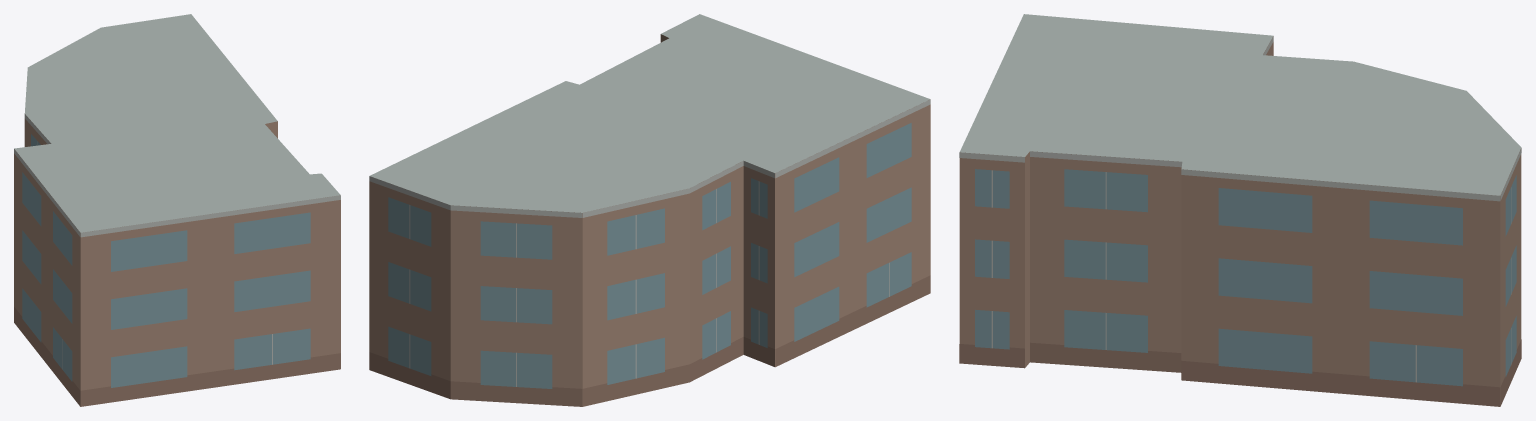
File: survey-upis-32672550.glb
3 renders of one model, left to right at view 1: azimuth 30°, elevation 25°; view 2: azimuth 150°, elevation 25°; view 3: azimuth 270°, elevation 25°, orthographic. The views are drawn at different scales.
Parts seen in each view (by area): view 1: survey-upis-32672550.tmp; view 2: survey-upis-32672550.tmp; view 3: survey-upis-32672550.tmp.
Part boxes in pixels (x1,y1,x2,y2): survey-upis-32672550.tmp: (14,14,340,406); survey-upis-32672550.tmp: (369,14,930,406); survey-upis-32672550.tmp: (959,14,1521,406).
Size of the model in its own units: 16.91 by 9.15 by 22.09.
